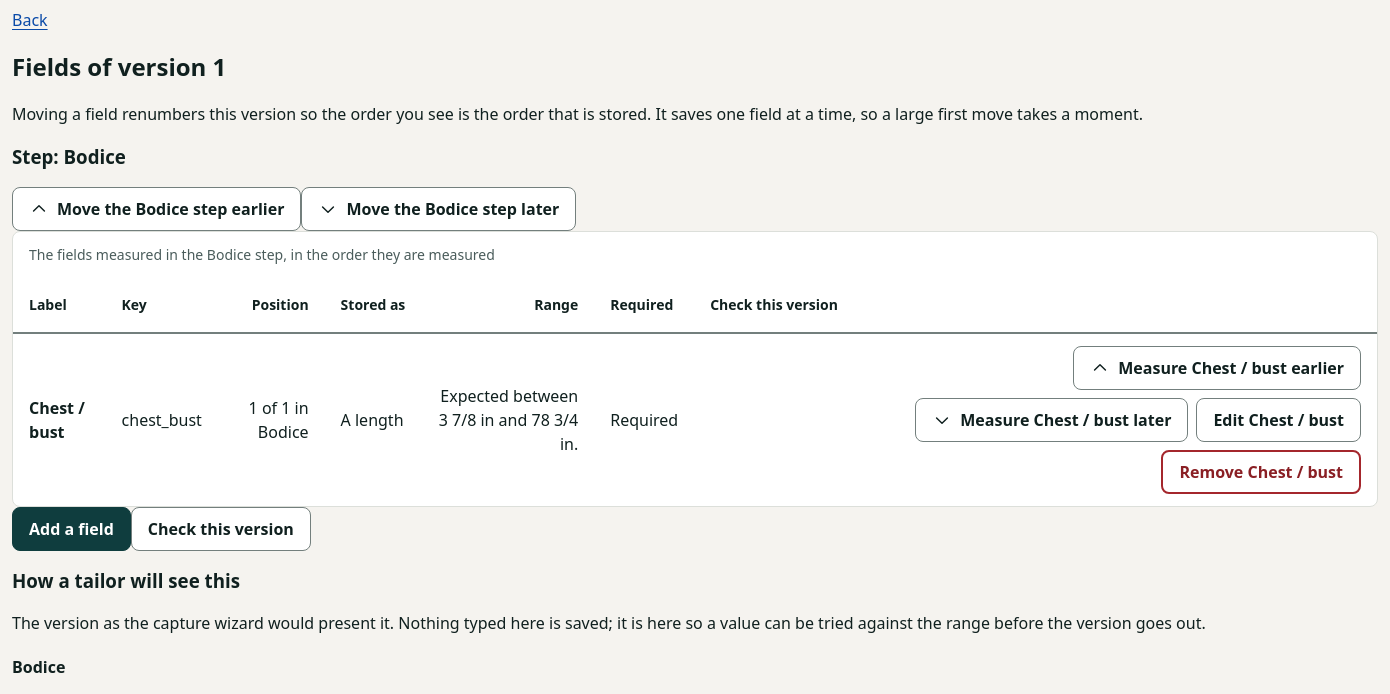
Test: gives a count no precision either, and says why it is whole
Check: the table is shown, box [13,232,1377,506]
Click the button "Add a field". click: (71,529)
box: [12,507,131,551]
(page scrolled)
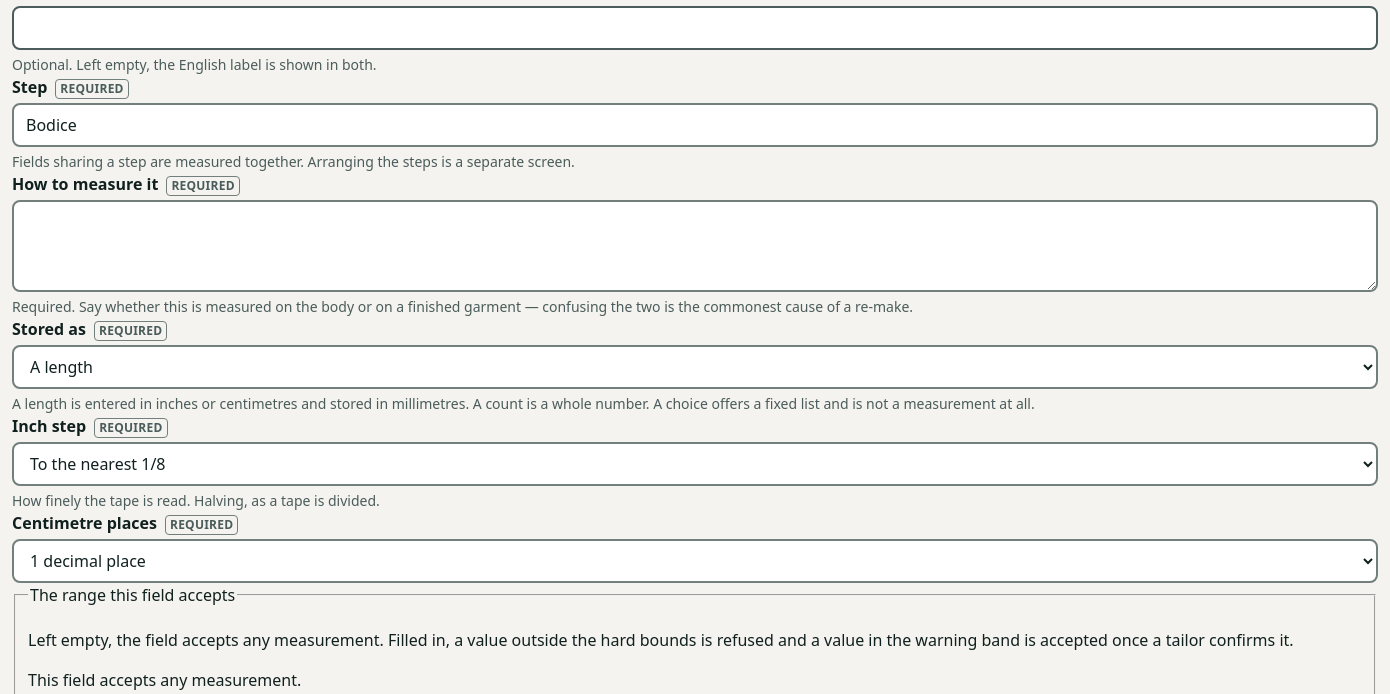
Select "A count" in the dropdown labelled "Stored as". click: (695,367)
box: [12,345,1378,389]
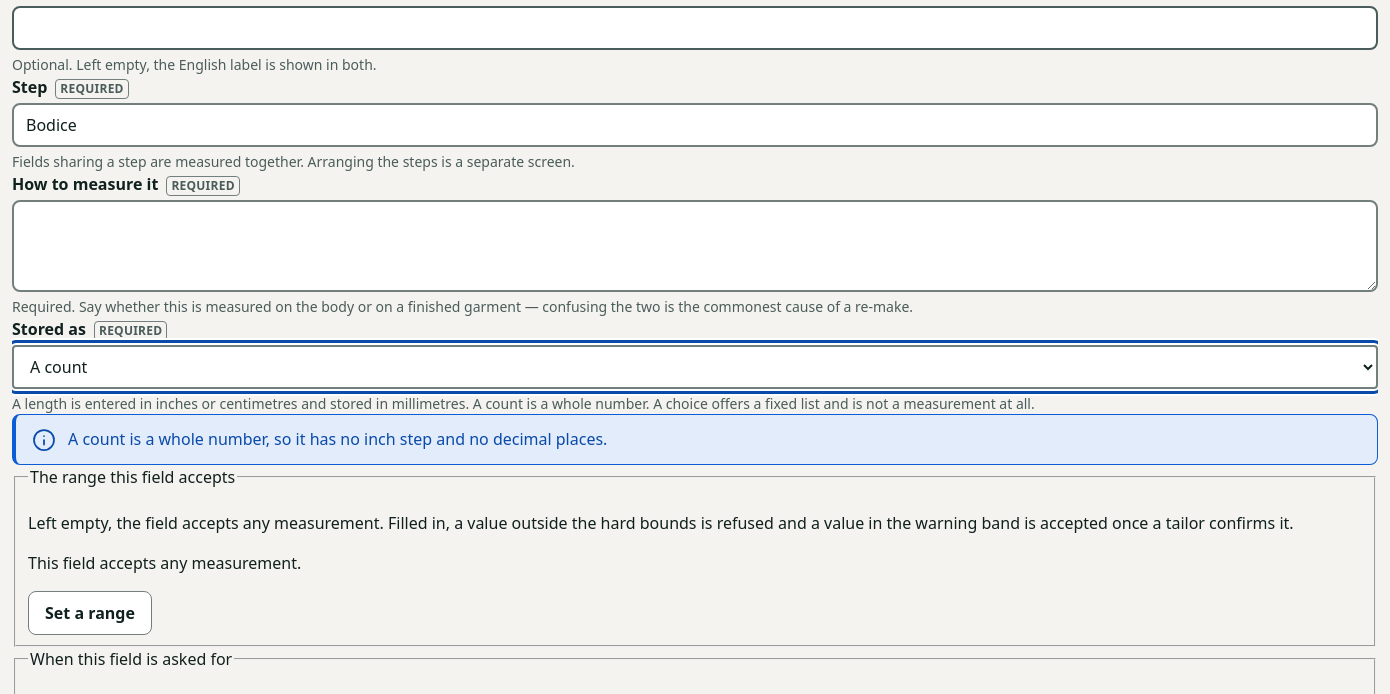
Check: the text "so it has no inch step and no decimal places" is shown, box [68,428,607,450]
